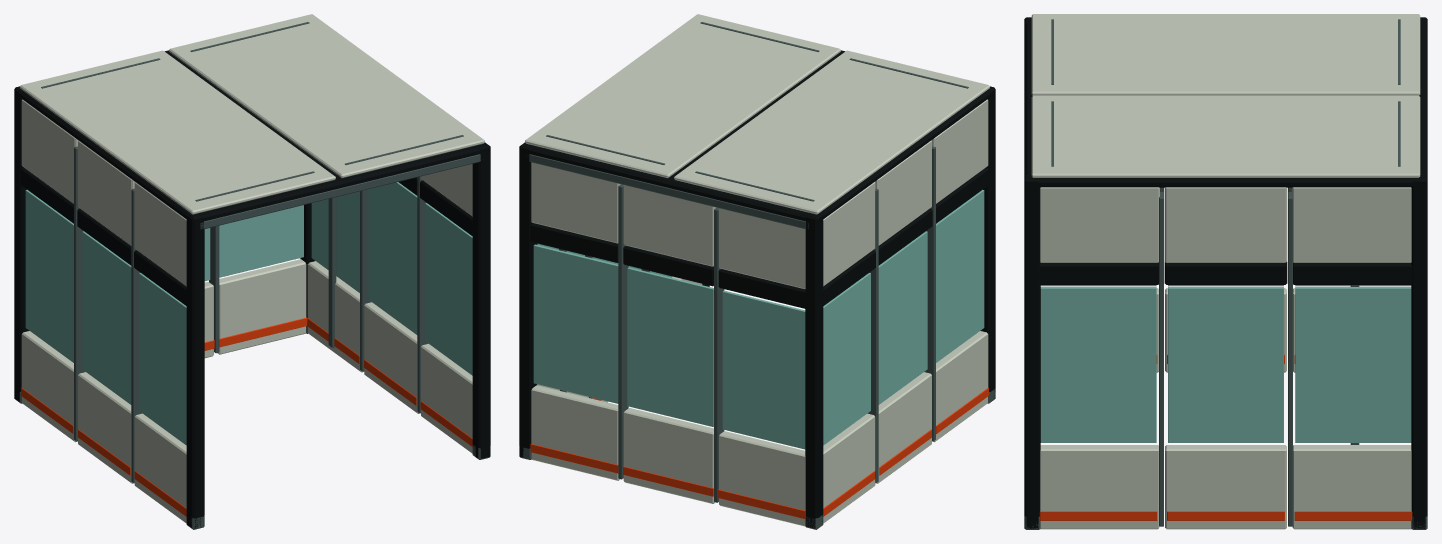
The model's file is SM_MP_Station_LiftShaft.fbx.
3 views of the same model, side by side, from view 1: azimuth 30°, elevation 25°; view 2: azimuth 150°, elevation 25°; view 3: azimuth 270°, elevation 25° (orthographic). The views are drawn at different scales.
Parts seen in each view (by area): view 1: SM_MP_Station_LiftShaft; view 2: SM_MP_Station_LiftShaft; view 3: SM_MP_Station_LiftShaft.
Boxes of the visible parts, x1,y1,x2,y2 form: SM_MP_Station_LiftShaft: [14, 14, 490, 529]; SM_MP_Station_LiftShaft: [519, 14, 995, 529]; SM_MP_Station_LiftShaft: [1024, 14, 1427, 529].
Bounding box in the file's own units: 480 × 500 × 488.
Materials: 1 (1 with a texture image).
